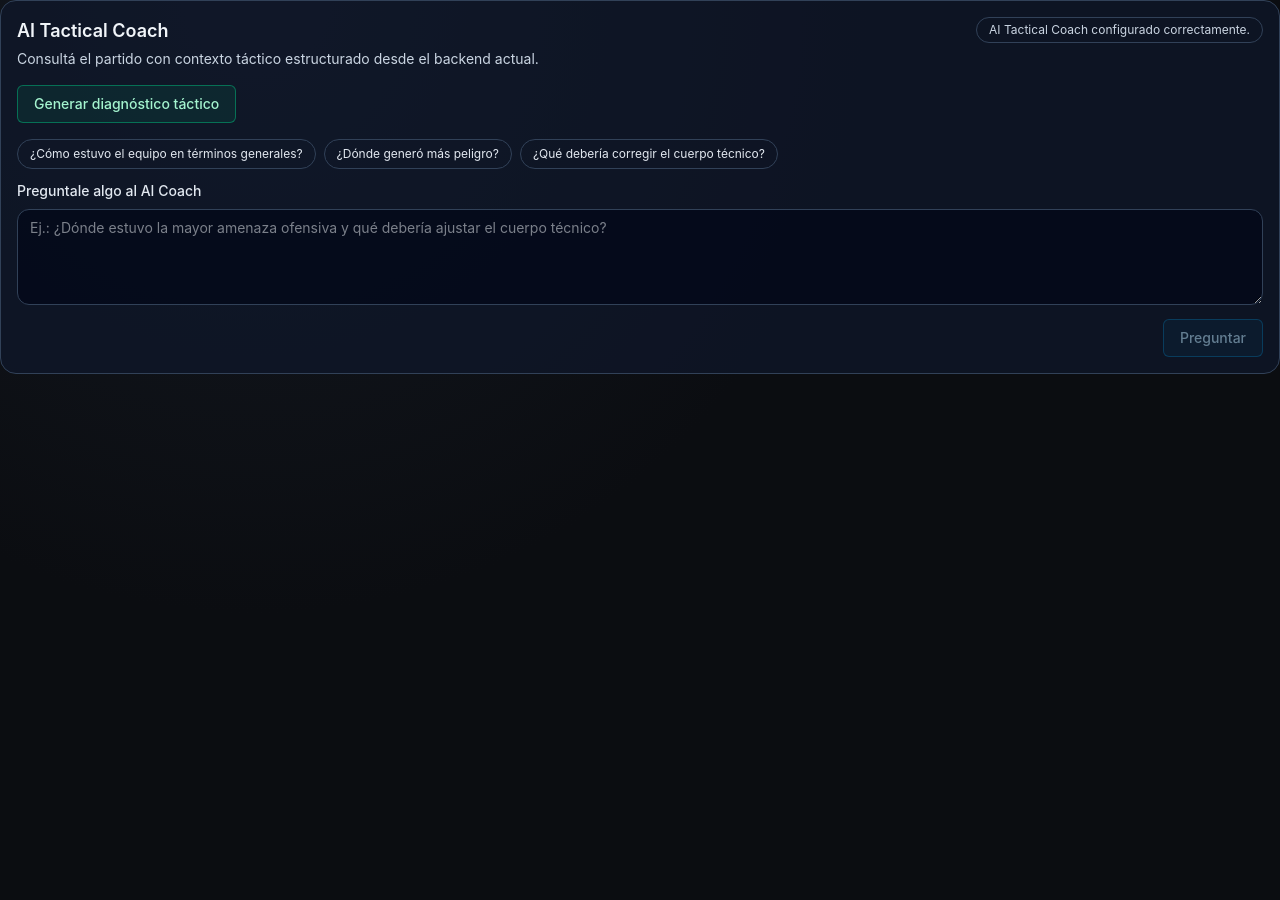
AiCoachPanel › genera diagnóstico y permite preguntar con historial conversacional
Click the button "Generar diagnóstico táctico" at (127, 104), box [17,85,236,123]
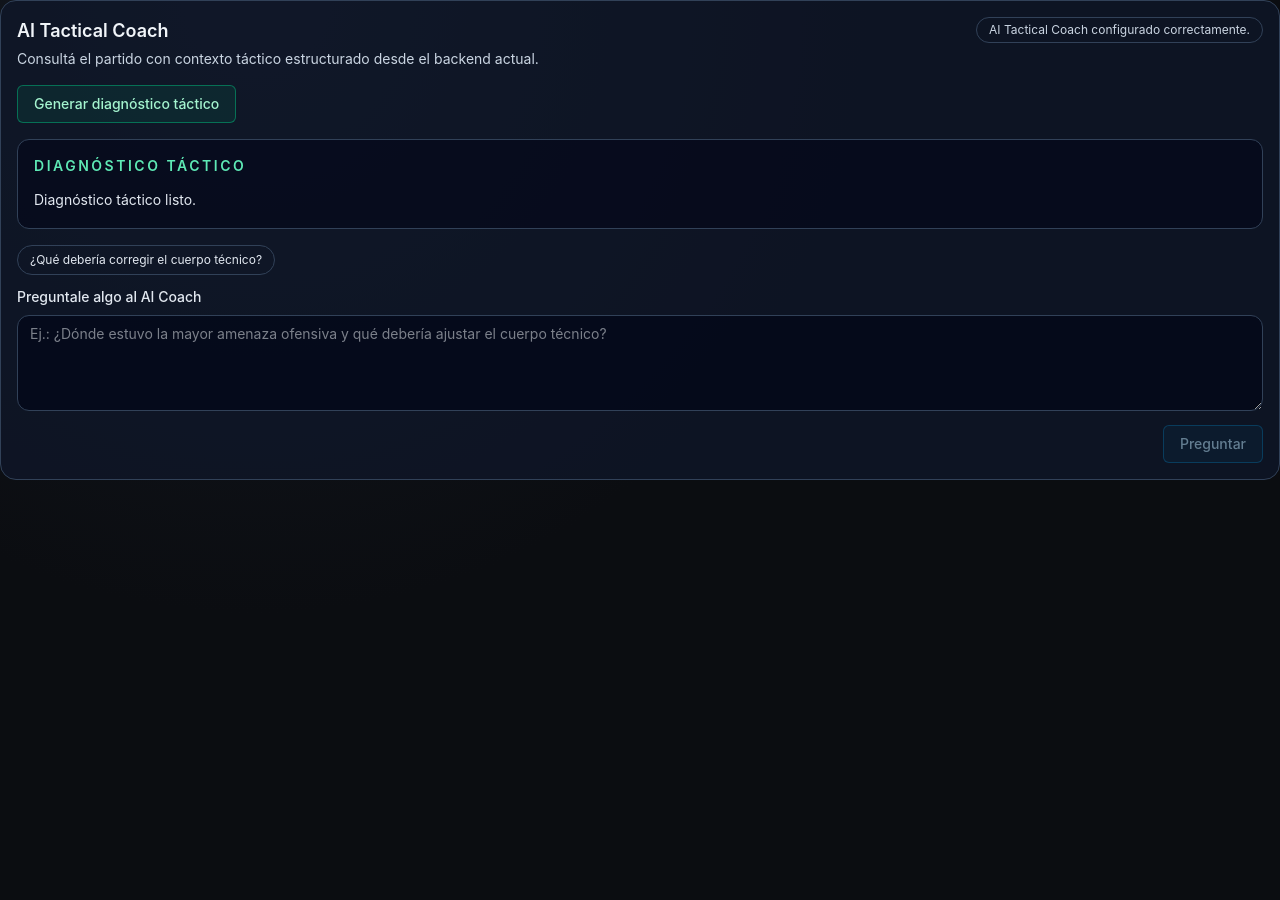
Expected: the text "Diagnóstico táctico listo." is shown, [34,191,196,208]
Replace the text in the text box labelled "Preguntale algo al AI Coach" with "¿Qué debería corregir el cuerpo técnico?" at (640, 363), box [17,315,1263,411]
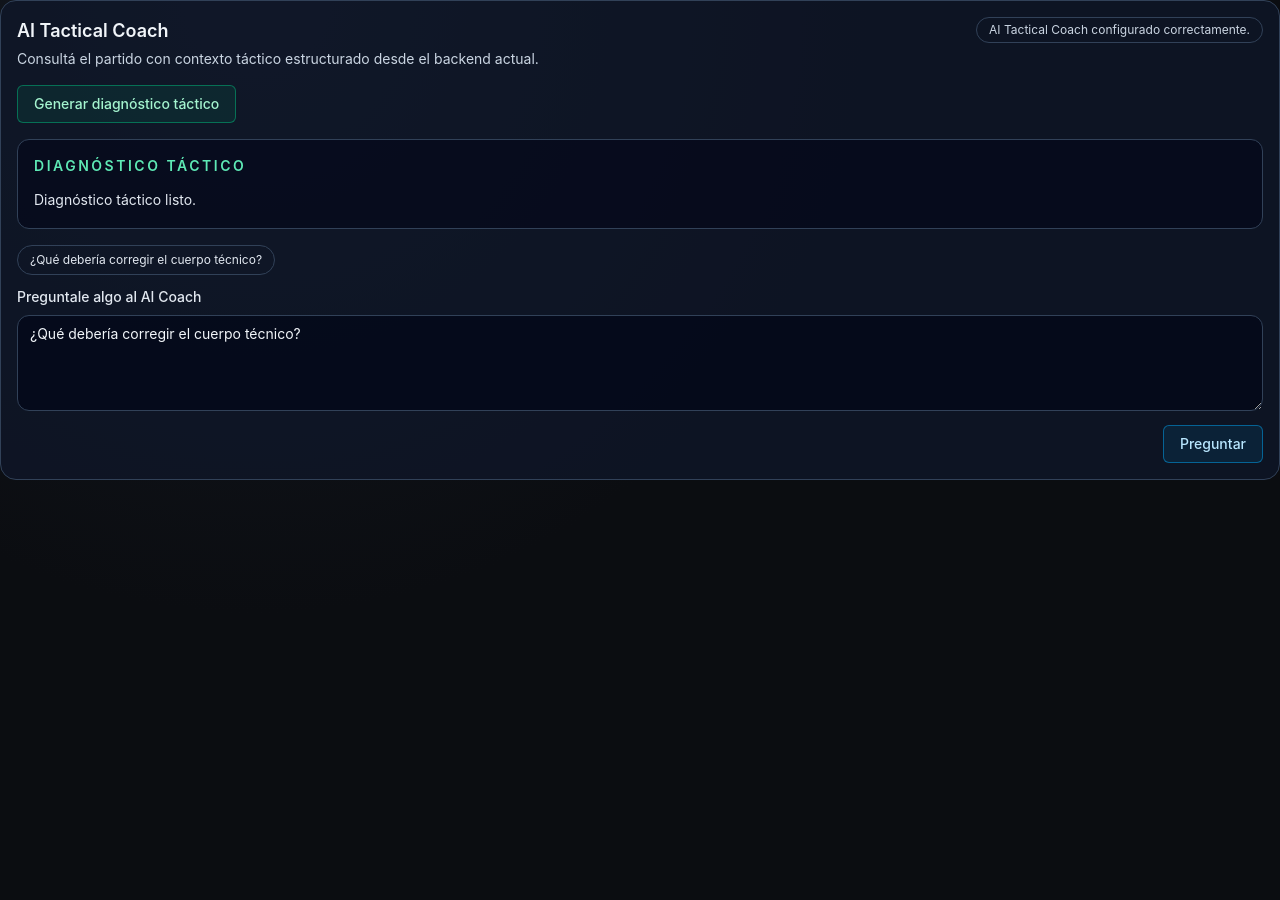
Click the button "Preguntar" at (1213, 444), box [1163,425,1263,463]
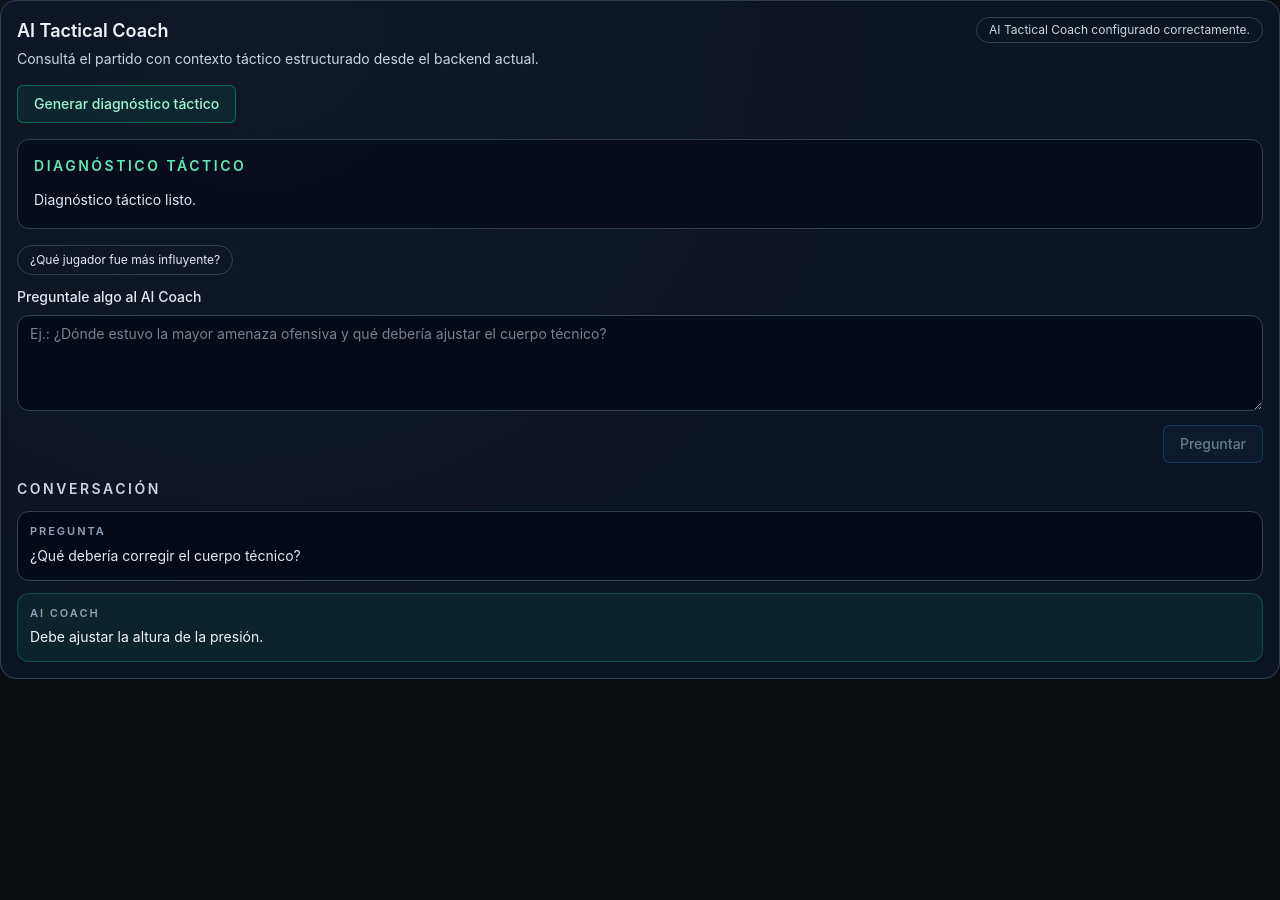
Expected: the text "Debe ajustar la altura de la presión." is shown, [30,628,263,645]
